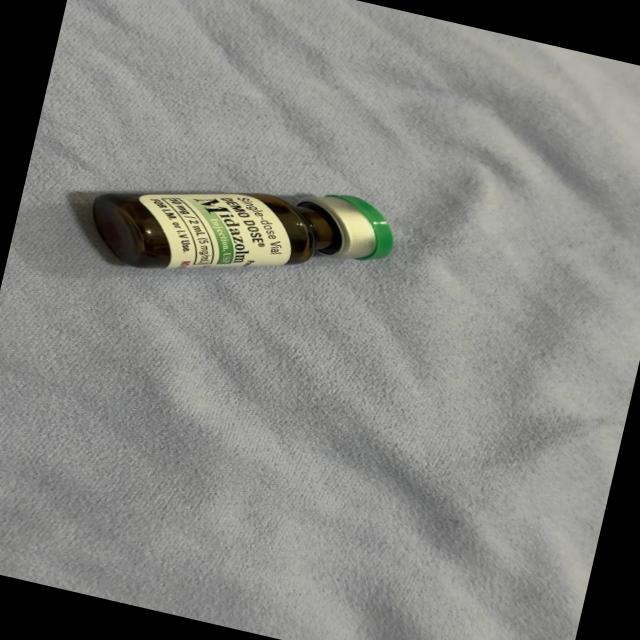midazolm: (85, 142, 396, 321)
